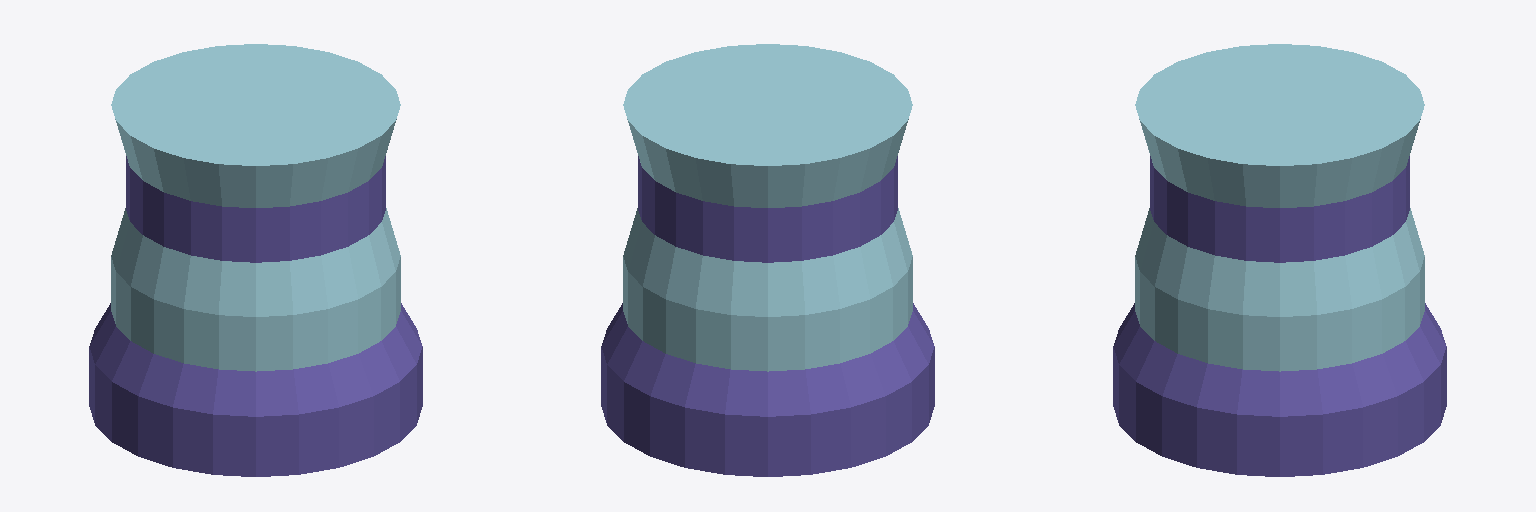
File: Poison.obj
The picture shows the model from 3 angles: view 1: azimuth 30°, elevation 25°; view 2: azimuth 150°, elevation 25°; view 3: azimuth 270°, elevation 25°; orthographic projection.
Visible parts, largest first — view 1: towerRound_middleA, Poison; view 2: towerRound_middleA, Poison; view 3: towerRound_middleA, Poison.
Part boxes in pixels (x1,y1,x2,y2): towerRound_middleA: (111, 44, 400, 316); Poison: (89, 257, 422, 476); towerRound_middleA: (623, 44, 912, 316); Poison: (601, 257, 934, 476); towerRound_middleA: (1135, 44, 1424, 316); Poison: (1113, 257, 1446, 476).
Bounding box in the file's own units: 1 × 1 × 1.